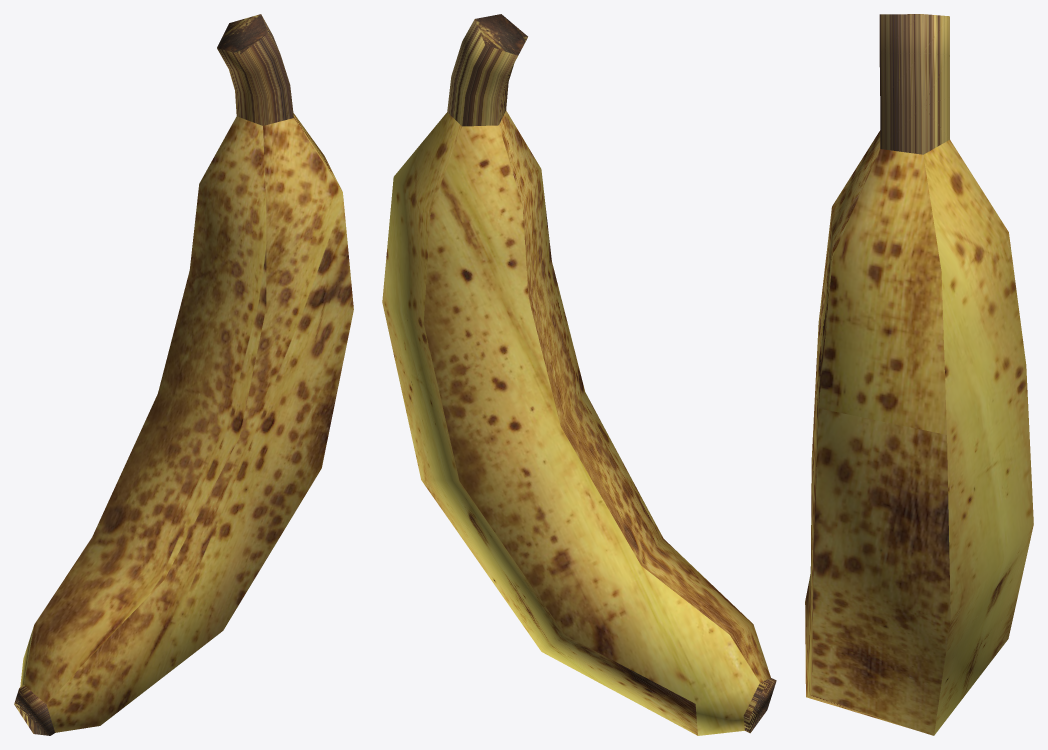
File: banana.obj
3 renders of one model, left to right at view 1: azimuth 30°, elevation 25°; view 2: azimuth 150°, elevation 25°; view 3: azimuth 270°, elevation 25°, orthographic. The views are drawn at different scales.
Size of the model in its own units: 5.25 by 9.55 by 2.35.
Materials: 2 (2 with a texture image).
